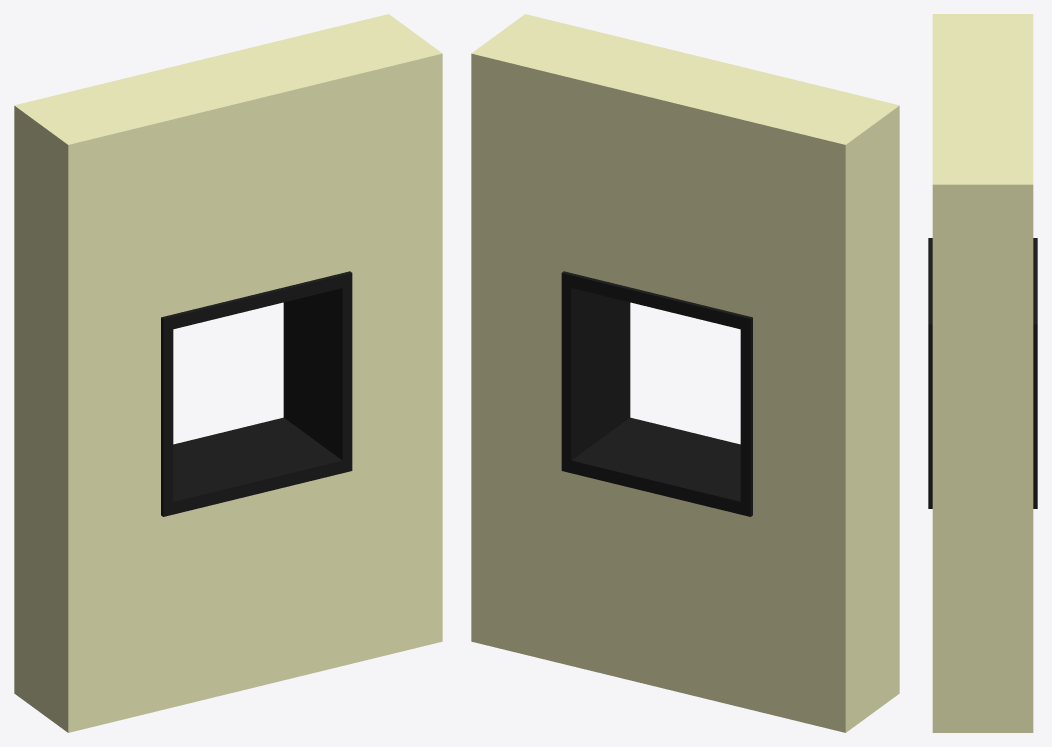
The model's file is WindowlessWall.fbx.
The picture shows the model from 3 angles, left to right: view 1: azimuth 30°, elevation 25°; view 2: azimuth 150°, elevation 25°; view 3: azimuth 270°, elevation 25°; orthographic projection. The views are drawn at different scales.
Parts seen in each view (by area): view 1: WindowlessWall; view 2: WindowlessWall; view 3: WindowlessWall.
Part boxes in pixels (left/top/right/bottom): WindowlessWall: left=14, top=14, right=442, bottom=732; WindowlessWall: left=471, top=14, right=899, bottom=732; WindowlessWall: left=928, top=14, right=1037, bottom=732.
Size of the model in its own units: 200 by 54.36 by 300.
